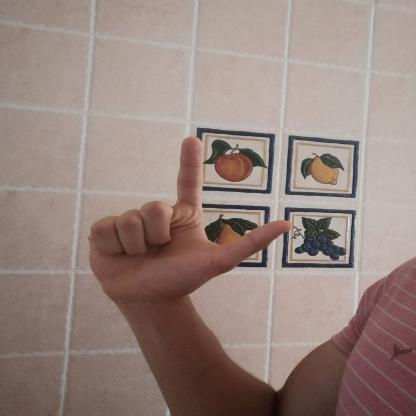LAAM: (73, 123, 307, 315)
